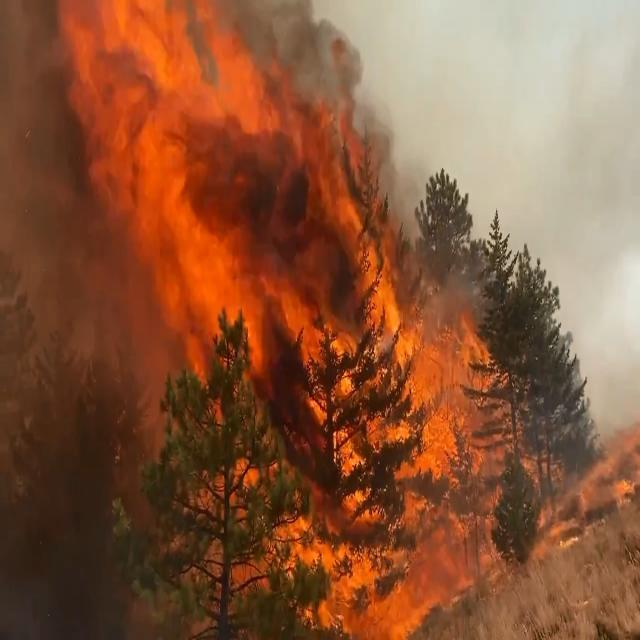Fire: (42, 0, 546, 640)
